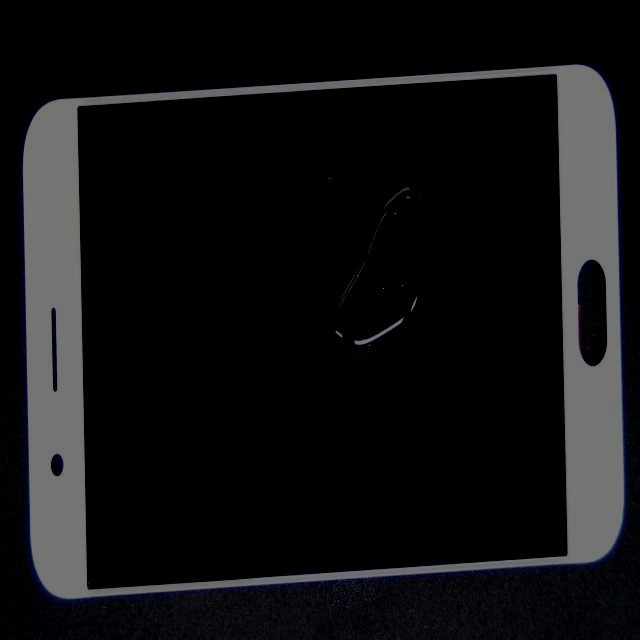oil: (239, 18, 567, 337)
